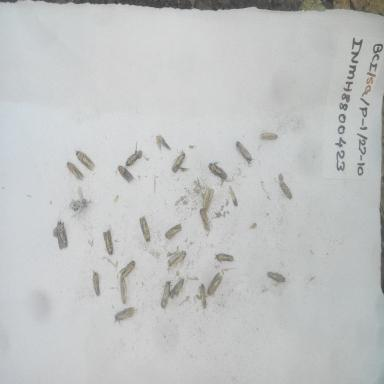pbw: (234, 140, 256, 168), (75, 144, 95, 174), (62, 158, 83, 184), (52, 217, 68, 251), (123, 145, 146, 167), (207, 160, 229, 183), (112, 305, 136, 326), (118, 259, 136, 286), (198, 205, 214, 234), (165, 222, 188, 242), (165, 248, 188, 268), (168, 276, 187, 300), (207, 271, 223, 298), (171, 147, 187, 174), (266, 270, 290, 288), (160, 279, 173, 311), (118, 164, 136, 187), (138, 214, 152, 243), (196, 282, 207, 317), (118, 275, 130, 305), (202, 186, 215, 213), (102, 228, 114, 257), (278, 179, 293, 201), (90, 268, 101, 297), (213, 252, 237, 264), (258, 129, 280, 142), (228, 183, 238, 208)
